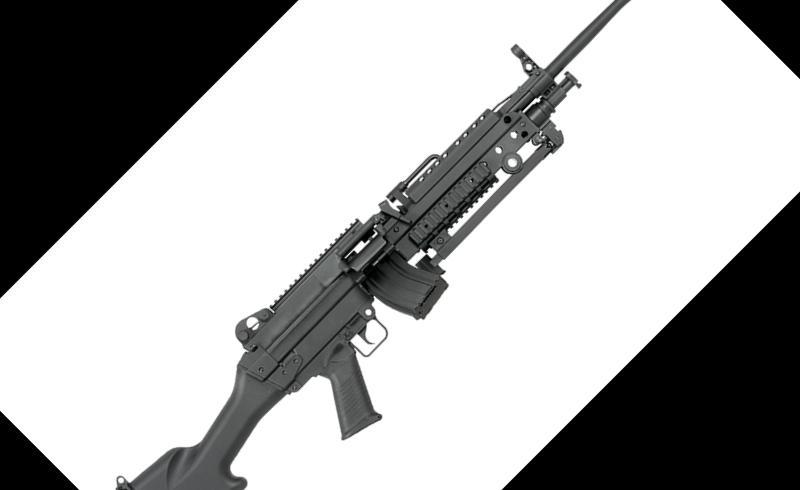larga: (114, 0, 631, 490)
